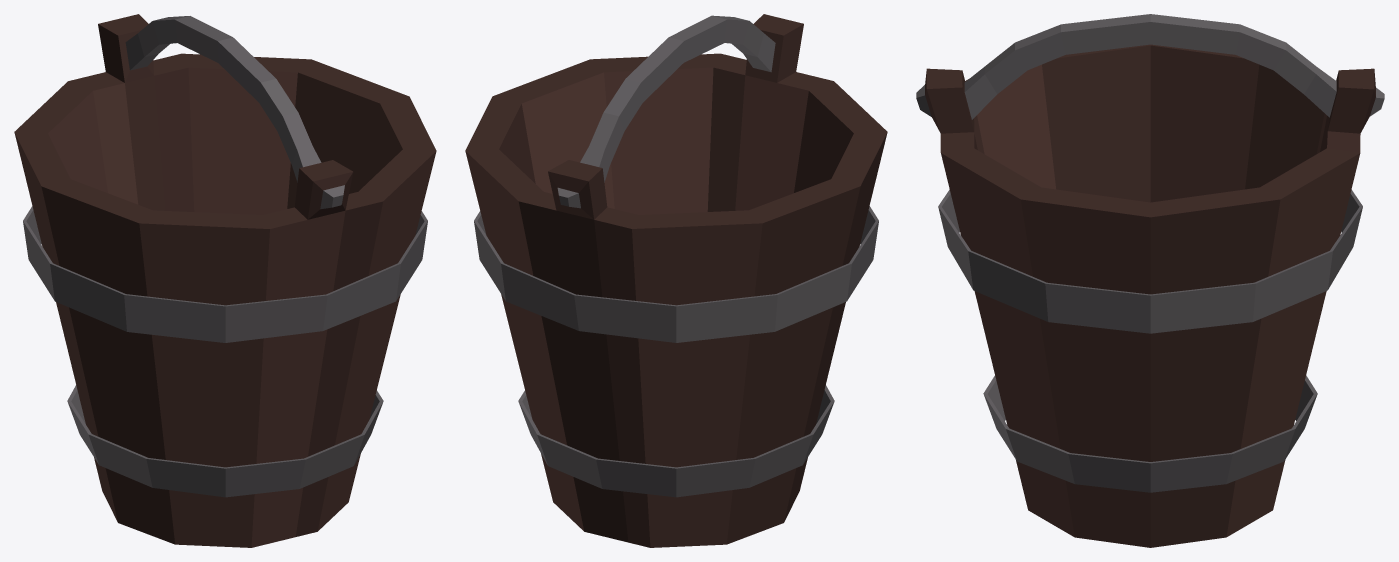
File: Balde.fbx
3 renders of one model, left to right at view 1: azimuth 30°, elevation 25°; view 2: azimuth 150°, elevation 25°; view 3: azimuth 270°, elevation 25°, orthographic. The views are drawn at different scales.
Parts seen in each view (by area): view 1: Balde; view 2: Balde; view 3: Balde.
Boxes of the visible parts, <box> form: Balde: <box>14,14,436,547</box>; Balde: <box>465,14,887,547</box>; Balde: <box>916,14,1384,547</box>.
Bounding box in the file's own units: 35.45 × 42.1 × 37.59.
